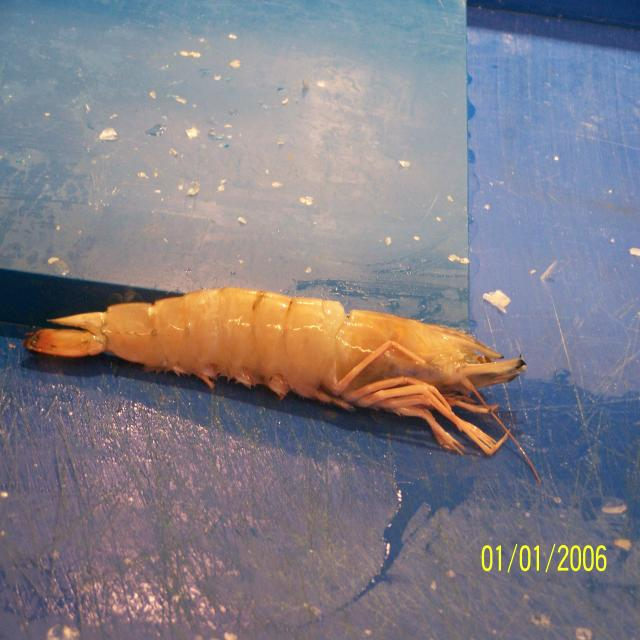Shrimp-karides-: (23, 288, 526, 457)
